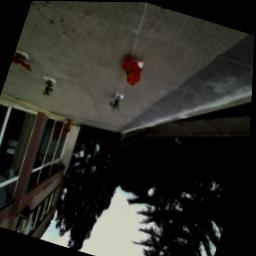herb: (43, 78, 58, 100), (109, 94, 126, 113)
wild: (117, 51, 151, 90), (12, 53, 38, 73)
